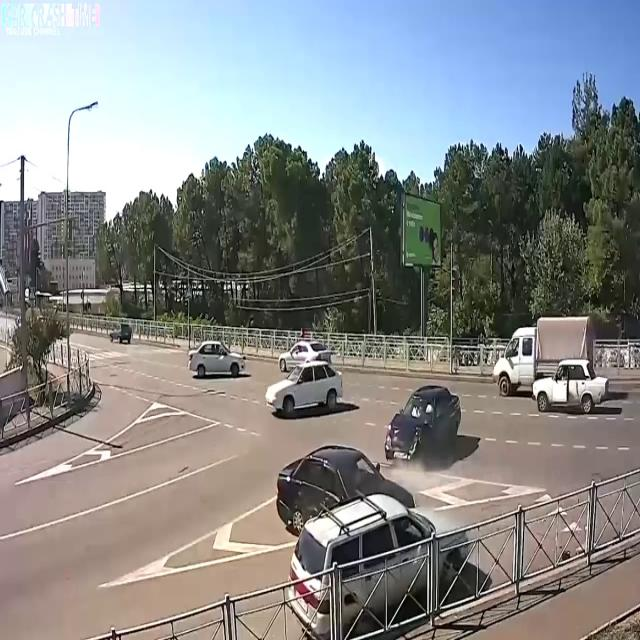Accident: (278, 358, 474, 582)
